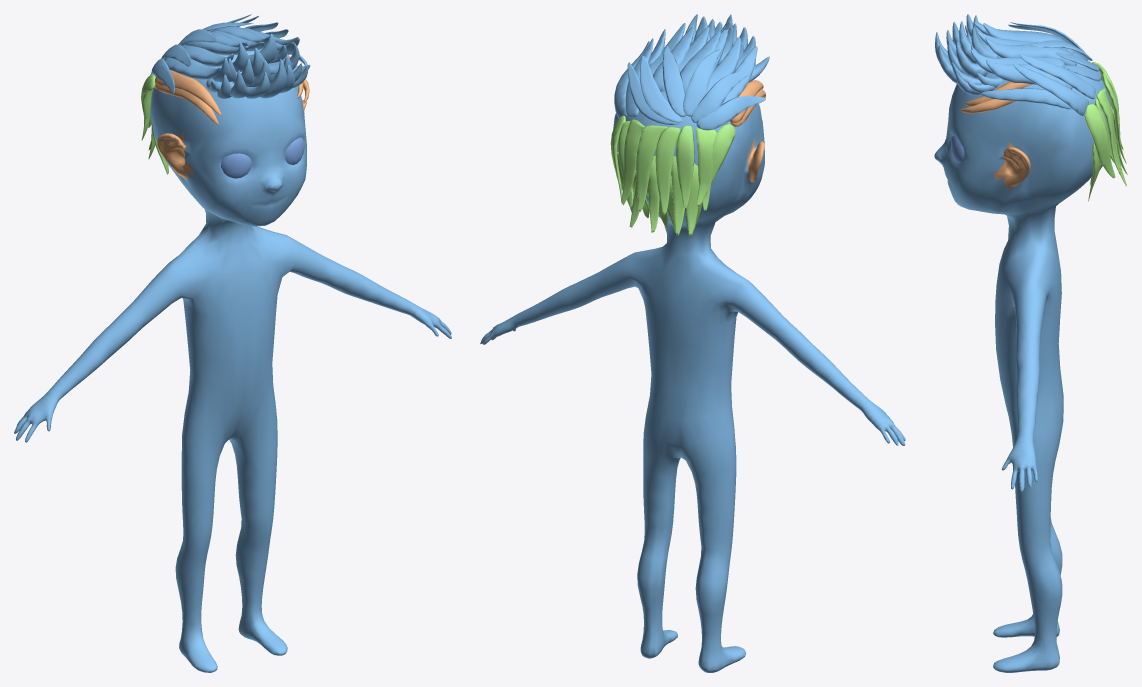
The model's file is corpo.fbx.
3 renders of one model, left to right at view 1: azimuth 30°, elevation 25°; view 2: azimuth 150°, elevation 25°; view 3: azimuth 270°, elevation 25°, orthographic. The views are drawn at different scales.
Visible parts, largest first — view 1: corpo, Merged_corpo58, Merged_corpo59; view 2: corpo, Merged_corpo58; view 3: corpo, Merged_corpo58.
Boxes of the visible parts, bbox=[...] form: corpo: bbox=[14, 48, 451, 672]; Merged_corpo58: bbox=[141, 14, 310, 174]; Merged_corpo59: bbox=[221, 137, 304, 178]; corpo: bbox=[480, 60, 905, 672]; Merged_corpo58: bbox=[610, 14, 769, 235]; corpo: bbox=[934, 51, 1110, 672]; Merged_corpo58: bbox=[935, 14, 1127, 201].
Bounding box in the file's own units: 1.57 × 2.2 × 0.6095.
